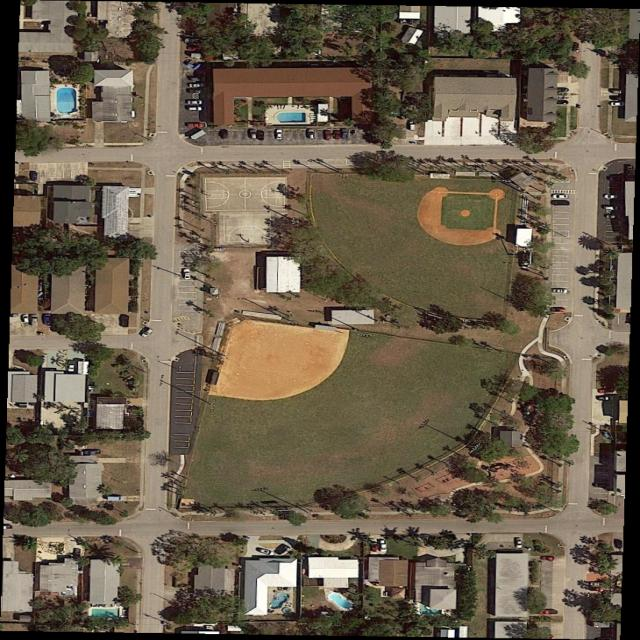small-vehicle: (276, 545, 291, 555), (259, 548, 275, 555), (142, 329, 154, 338), (380, 539, 388, 552), (598, 387, 615, 393), (553, 200, 570, 206), (31, 170, 39, 182), (83, 450, 102, 455), (184, 269, 192, 280), (552, 194, 569, 199), (551, 307, 568, 312), (541, 555, 555, 561), (543, 608, 557, 614), (608, 95, 624, 100), (572, 43, 580, 53), (342, 128, 350, 138), (590, 587, 606, 592), (599, 395, 615, 400), (552, 288, 568, 293), (604, 206, 619, 211), (609, 177, 624, 182), (222, 131, 230, 140), (69, 361, 77, 370), (555, 99, 569, 104), (75, 550, 82, 560), (189, 106, 203, 111), (608, 214, 622, 219), (615, 539, 622, 549), (516, 538, 523, 548), (32, 315, 39, 325), (609, 101, 626, 105), (324, 129, 330, 140), (555, 87, 570, 91), (335, 130, 341, 140), (373, 542, 379, 552), (609, 89, 623, 93), (606, 195, 620, 199), (590, 582, 604, 586), (309, 130, 315, 139), (258, 131, 264, 140), (250, 130, 256, 139), (45, 314, 50, 324), (189, 100, 201, 104), (410, 122, 416, 130), (23, 315, 29, 323), (278, 130, 283, 139), (189, 124, 203, 127), (189, 83, 202, 86)
